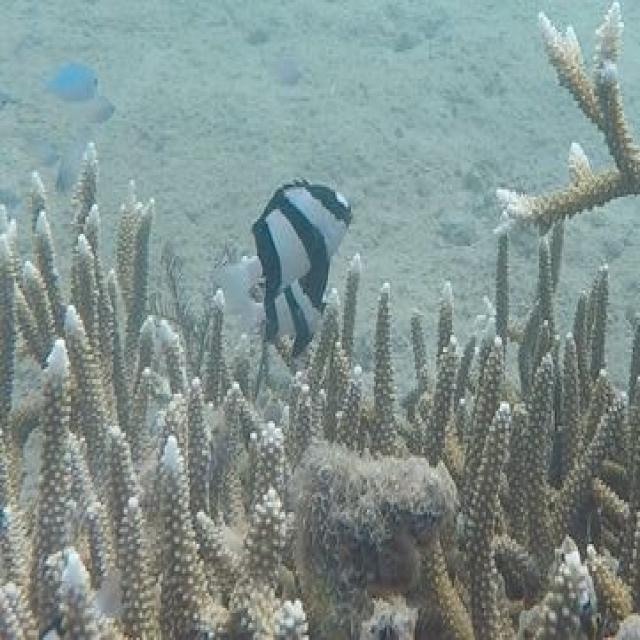Three_striped DasmselFish: (221, 180, 353, 353)
